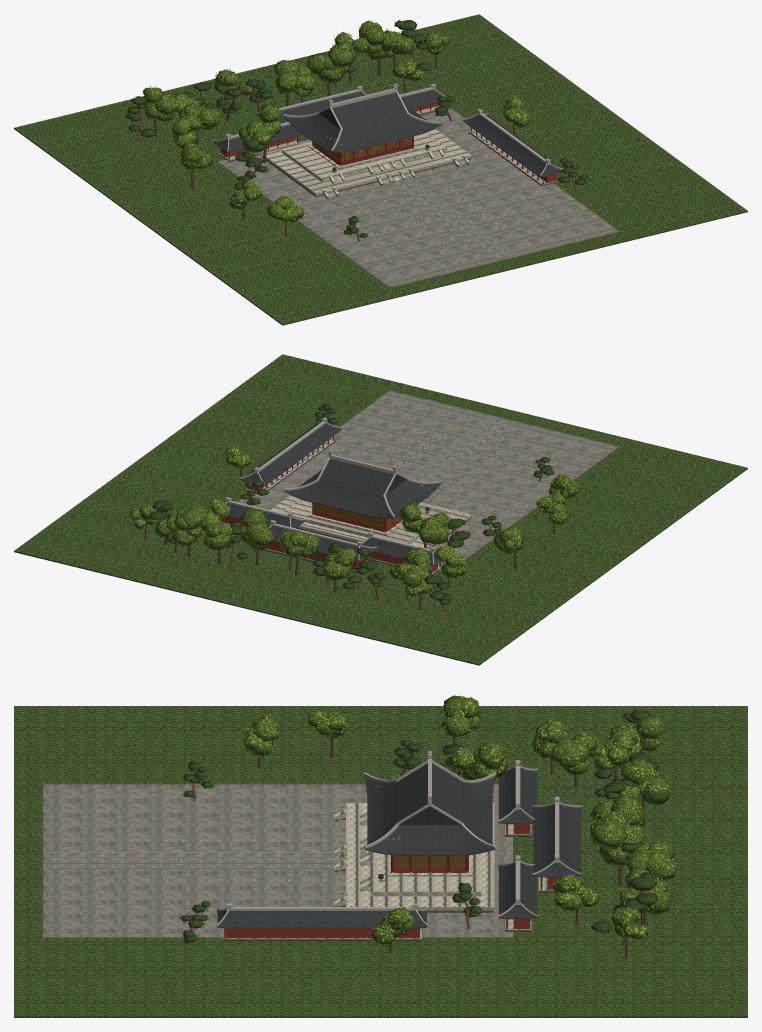
Rendered from deoksugung.glb.
The picture shows the model from 3 angles, top to bottom: view 1: azimuth 30°, elevation 25°; view 2: azimuth 150°, elevation 25°; view 3: azimuth 270°, elevation 25°; orthographic projection. The views are drawn at different scales.
Parts seen in each view (by area): view 1: Deoksugung; view 2: Deoksugung; view 3: Deoksugung.
Boxes of the visible parts, x1,y1,x2,y2 form: Deoksugung: (14,14,747,325); Deoksugung: (14,354,747,665); Deoksugung: (14,694,747,1017).
Bounding box in the file's own units: 150 × 20.06 × 150.
27 materials, 15 textured.
